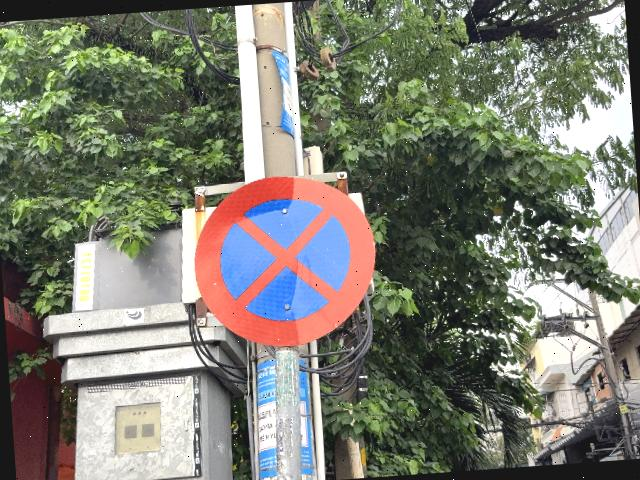cam-dung-va-do-xe: (188, 170, 377, 353)
